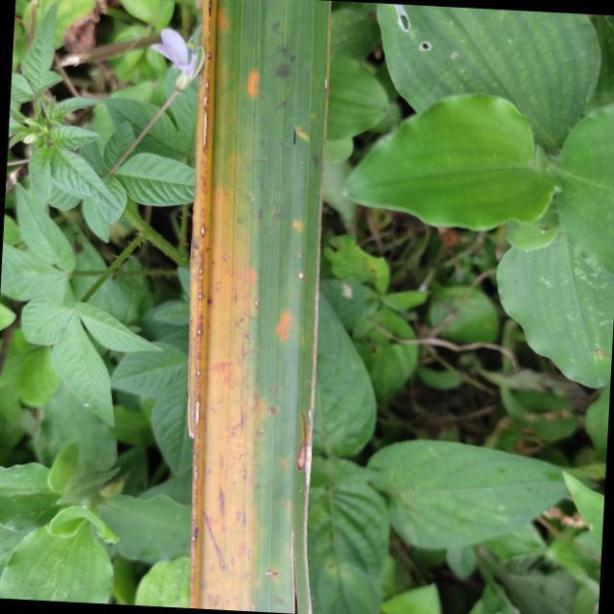Megnesium: (195, 0, 336, 614)
